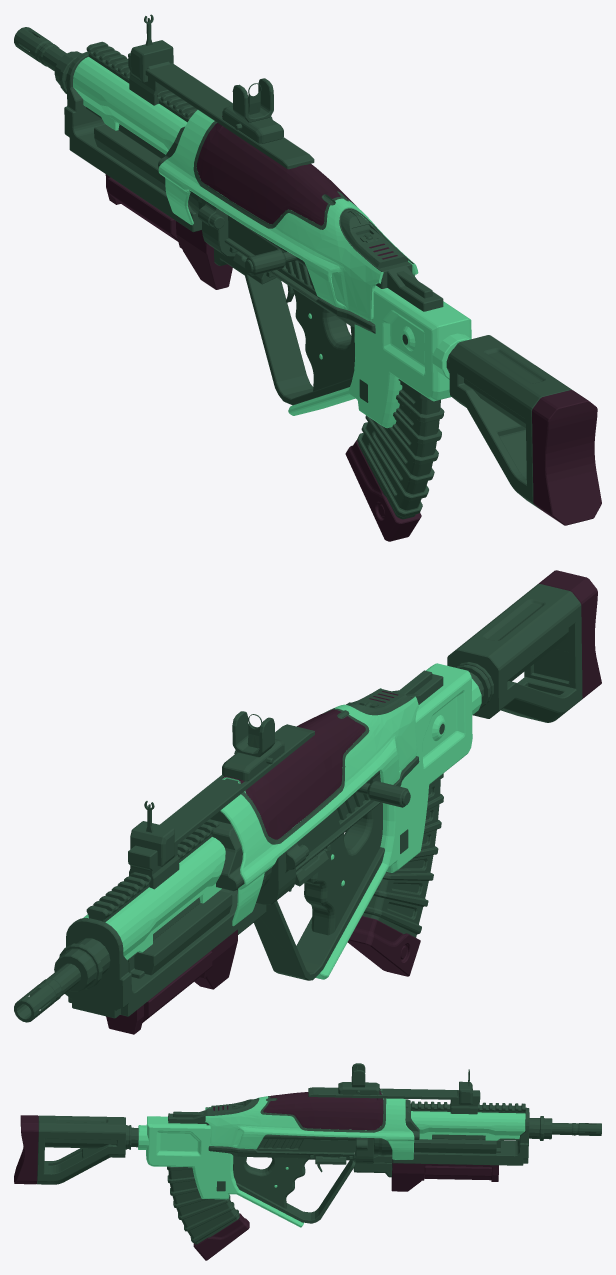
The model's file is remake_394.glb.
The picture shows the model from 3 angles, top to bottom: view 1: azimuth 30°, elevation 25°; view 2: azimuth 150°, elevation 25°; view 3: azimuth 270°, elevation 25°; orthographic projection. The views are drawn at different scales.
Parts seen in each view (by area): view 1: remake_394; view 2: remake_394; view 3: remake_394.
Part boxes in pixels (x1,y1,x2,y2): remake_394: (14, 14, 601, 541); remake_394: (14, 570, 601, 1034); remake_394: (14, 1063, 601, 1260).
Bounding box in the file's own units: 0.1655 × 0.4465 × 1.25.
Materials: 1 (1 with a texture image).
